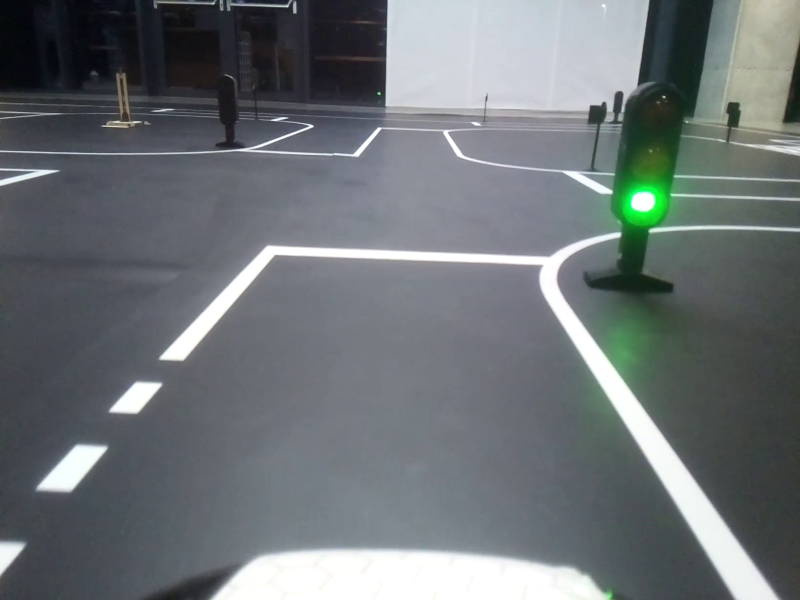traffic_green: (620, 81, 679, 232)
